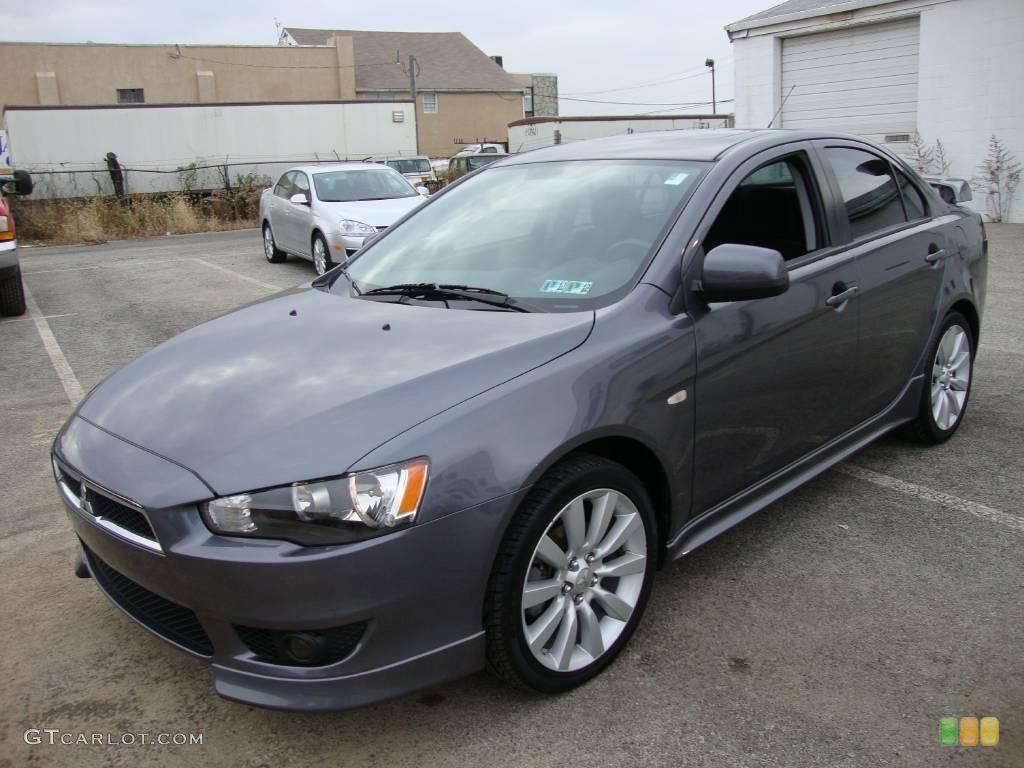Mitsubishi: (65, 474, 107, 525)
